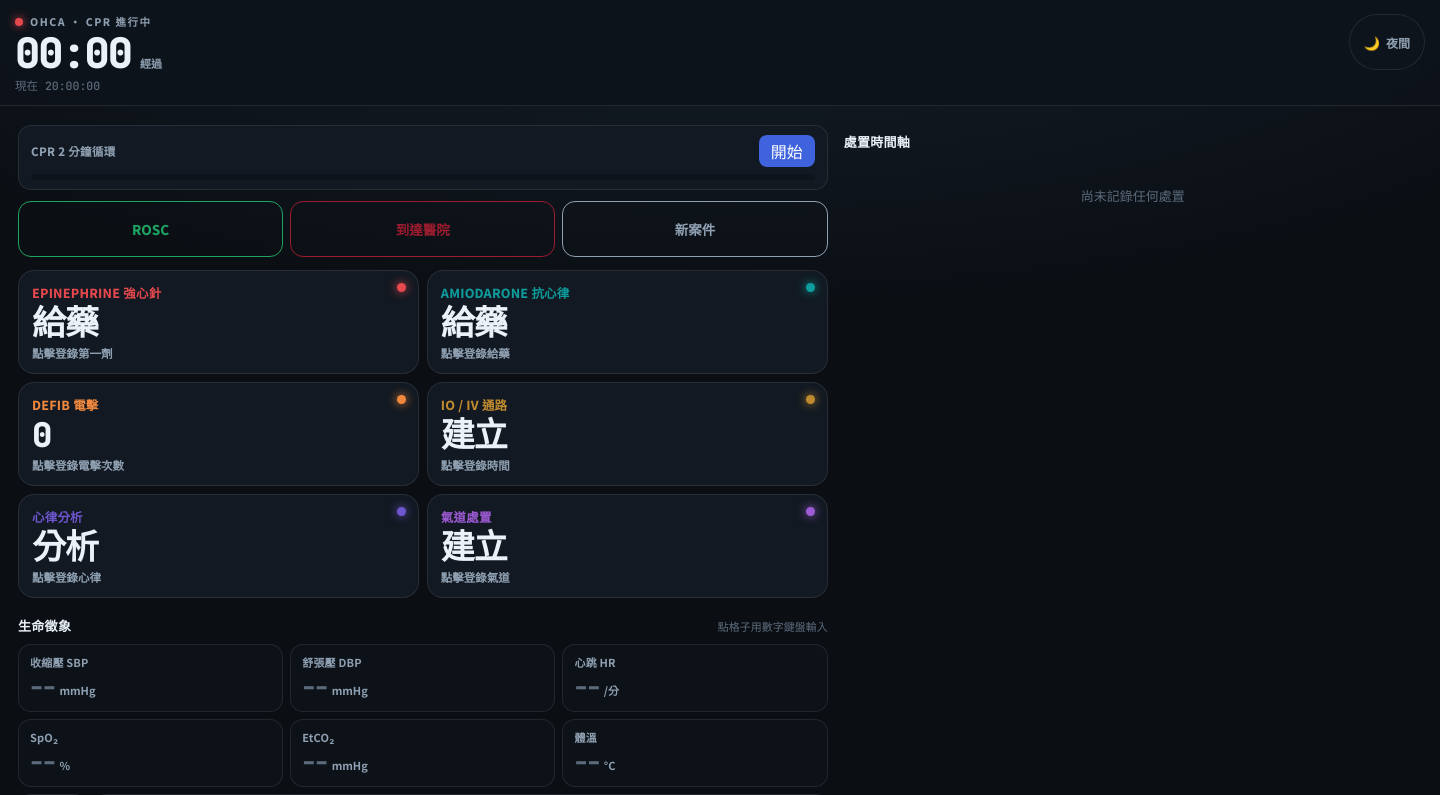
Test case: App — US2 drugs & shocks › marks Epinephrine due after 3 minutes (FR-003)
Click the text "EPINEPHRINE 強心針". click: (97, 292)
box: [32,283,161,302]
Wait 181000 ms
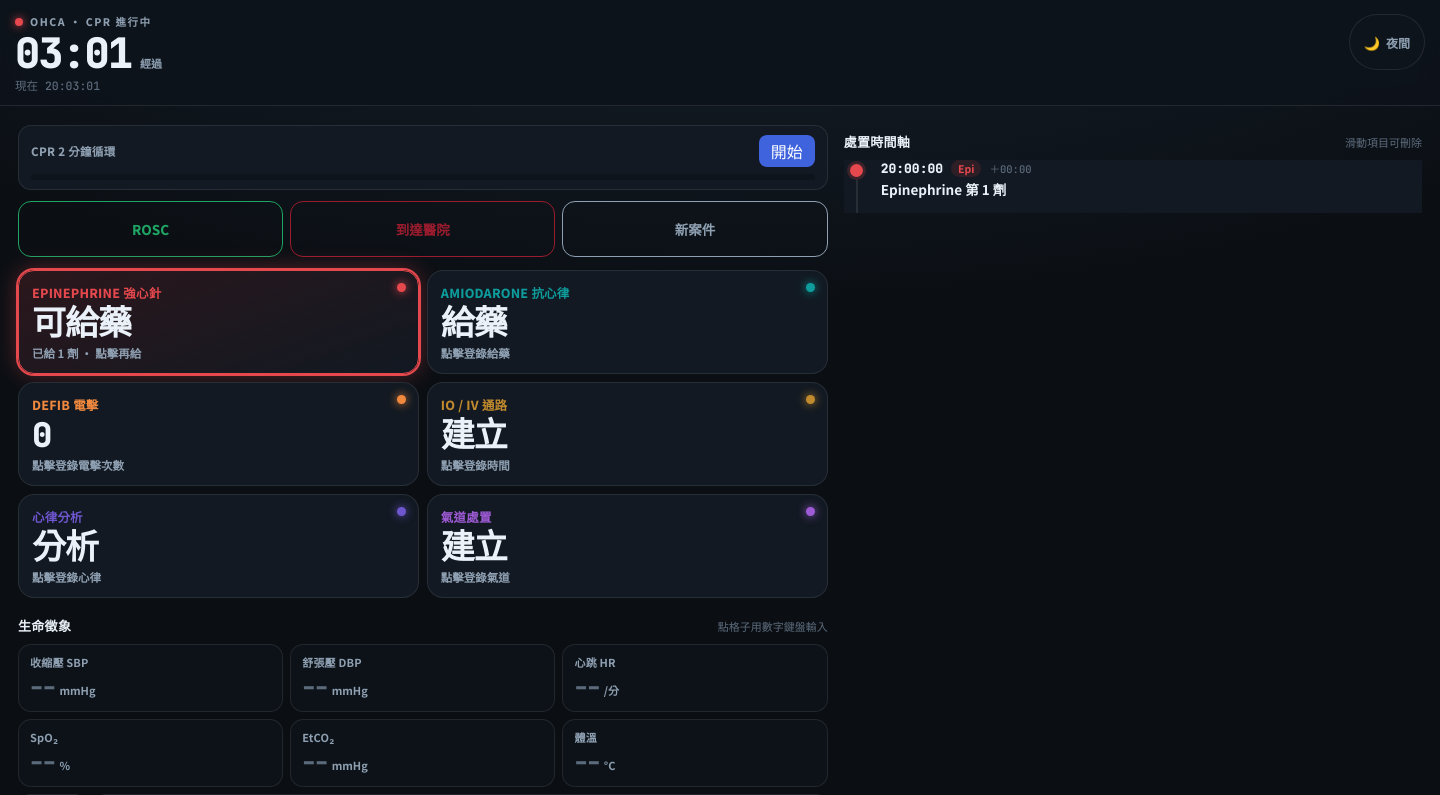
Check: the text "可給藥" is shown, box [32,306,131,340]
